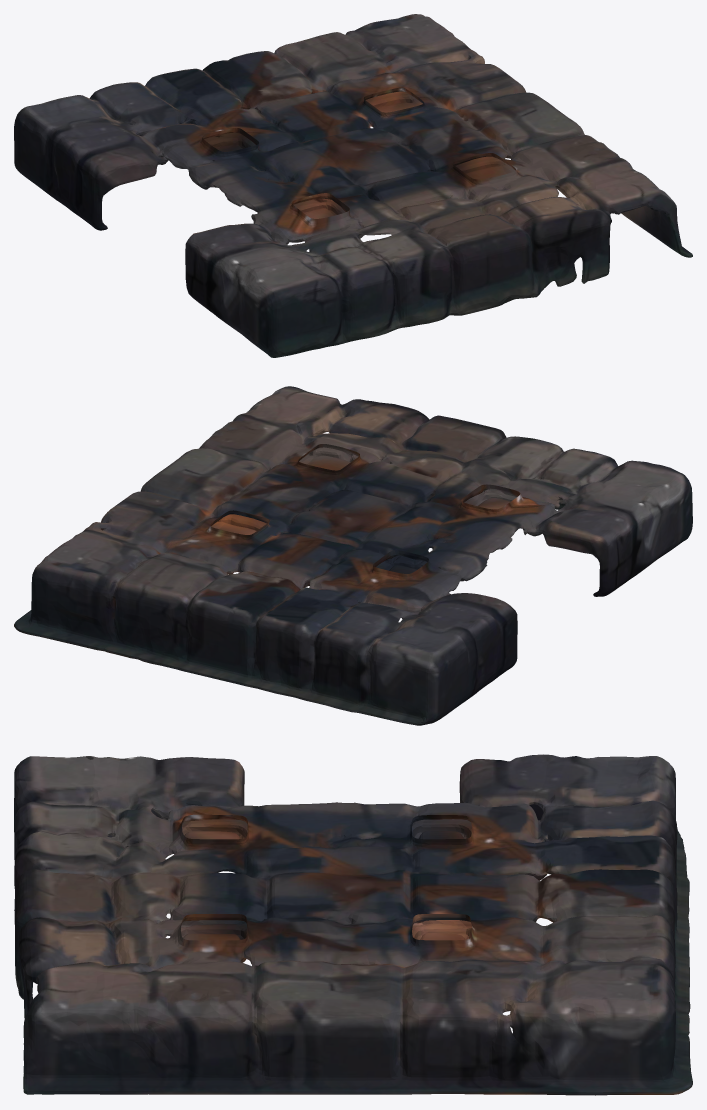
File: beacon_plate.glb
3 views of the same model, one above another, from view 1: azimuth 30°, elevation 25°; view 2: azimuth 150°, elevation 25°; view 3: azimuth 270°, elevation 25° (orthographic). The views are drawn at different scales.
Visible parts, largest first — view 1: beacon_plate; view 2: beacon_plate; view 3: beacon_plate.
Boxes of the visible parts, x1=… form: beacon_plate: x1=14, y1=14, x2=692, y2=357; beacon_plate: x1=14, y1=386, x2=692, y2=725; beacon_plate: x1=14, y1=754, x2=692, y2=1095.
Size of the model in its own units: 1.83 by 0.2832 by 2.
1 material, 1 textured.
